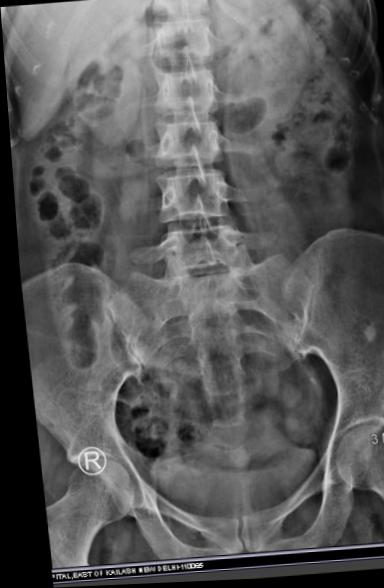bladder: (127, 404, 320, 522)
vertebrae: (147, 13, 216, 69)
